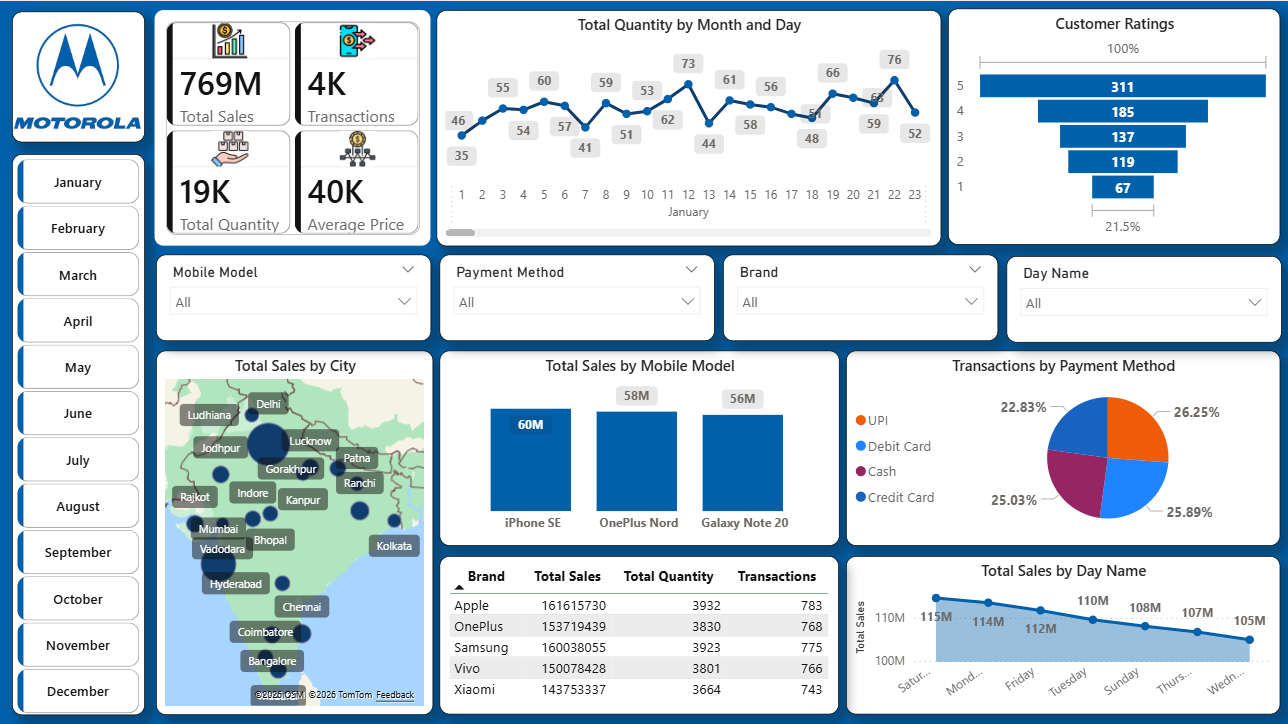

The dashboard page shown, as its layout file describes it:
{"tool":"powerbi","page":{"name":"Page 1","canvas":[1280,720],"ordinal":0},"visuals":[{"type":"shape","box":[12.1,10.6,131.7,130.2],"z":0},{"type":"image","box":[12.1,12.1,130.2,125.7],"z":1000},{"type":"shape","box":[12.1,151.4,131.7,557.2],"z":2000},{"type":"advancedSlicerVisual","fields":{"Values":["Sales_data.Date.Variation.Date Hierarchy.Month"]},"box":[12.1,151.4,131.7,567.8],"z":3000},{"type":"cardVisual","fields":{"Data":["Sales_data.Total Sales","Sales_data.Total Quantity","Sales_data.Transactions","Sales_data.Average Price"]},"box":[146.9,3,286.2,246],"z":4000},{"type":"azureMap","fields":{"Category":["Sales_data.City"],"Size":["Sales_data.Total Sales"]},"box":[154.4,346.8,275.6,361.9],"z":5000},{"type":"lineChart","fields":{"Y":["Sales_data.Total Quantity"],"Category":["Sales_data.Date.Variation.Date Hierarchy.Month","Sales_data.Date.Variation.Date Hierarchy.Day"]},"box":[433.1,9.1,501,234.7],"z":6000},{"type":"clusteredColumnChart","title":"Top 3 Models by Sales","fields":{"Y":["Sales_data.Total Sales"],"Category":["Sales_data.Mobile Model"]},"box":[436.1,346.8,397,193.8],"z":7000},{"type":"pieChart","fields":{"Category":["Sales_data.Payment Method"],"Y":["Sales_data.Transactions"]},"box":[840.4,346.8,431,193.8],"z":8000},{"type":"funnel","title":"Customer Ratings","fields":{"Y":["CountNonNull(Sales_data.Customer Ratings)"],"Category":["Sales_data.Customer Ratings"]},"box":[941.8,7.6,330,234.7],"z":9000},{"type":"areaChart","fields":{"Category":["Sales_data.Day Name"],"Y":["Sales_data.Total Sales"]},"box":[840.4,551.2,431,157.5],"z":10000},{"type":"tableEx","fields":{"Values":["Sales_data.Brand","Sales_data.Total Sales","Sales_data.Total Quantity","Sales_data.Transactions"]},"box":[436.1,551.2,396.7,157.5],"z":11000},{"type":"slicer","fields":{"Values":["Sales_data.Mobile Model"]},"box":[154.4,251.4,273,86.3],"z":12000},{"type":"slicer","fields":{"Values":["Sales_data.Payment Method"]},"box":[436.1,251.4,273,86.3],"z":13000},{"type":"slicer","fields":{"Values":["Sales_data.Brand"]},"box":[717.7,251.4,273,86.3],"z":14000},{"type":"slicer","fields":{"Values":["Sales_data.Day Name"]},"box":[999.4,252.9,273,86.3],"z":15000}]}

Visuals, with their boxes in screenshot pixels (x1, y1, x2, y2), scaled from the page's 1280x720 canvas onto the 1288x724 screenshot:
shape: 12/11/145/142
image: 12/12/143/139
shape: 12/152/145/713
advancedSlicerVisual - Sales_data.Date.Variation.Date Hierarchy.Month: 12/152/145/723
cardVisual - Sales_data.Total Sales x Sales_data.Total Quantity: 148/3/436/250
azureMap - Sales_data.City x Sales_data.Total Sales: 155/349/433/713
lineChart - Sales_data.Total Quantity x Sales_data.Date.Variation.Date Hierarchy.Month: 436/9/940/245
"Top 3 Models by Sales" clusteredColumnChart: 439/349/838/544
pieChart - Sales_data.Payment Method x Sales_data.Transactions: 846/349/1279/544
"Customer Ratings" funnel: 948/8/1280/244
areaChart - Sales_data.Day Name x Sales_data.Total Sales: 846/554/1279/713
tableEx - Sales_data.Brand x Sales_data.Total Sales: 439/554/838/713
slicer - Sales_data.Mobile Model: 155/253/430/340
slicer - Sales_data.Payment Method: 439/253/714/340
slicer - Sales_data.Brand: 722/253/997/340
slicer - Sales_data.Day Name: 1006/254/1280/341
